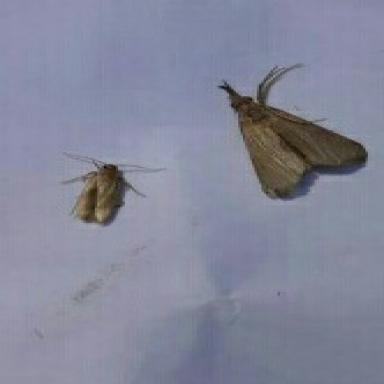pbw: (57, 148, 156, 224)
